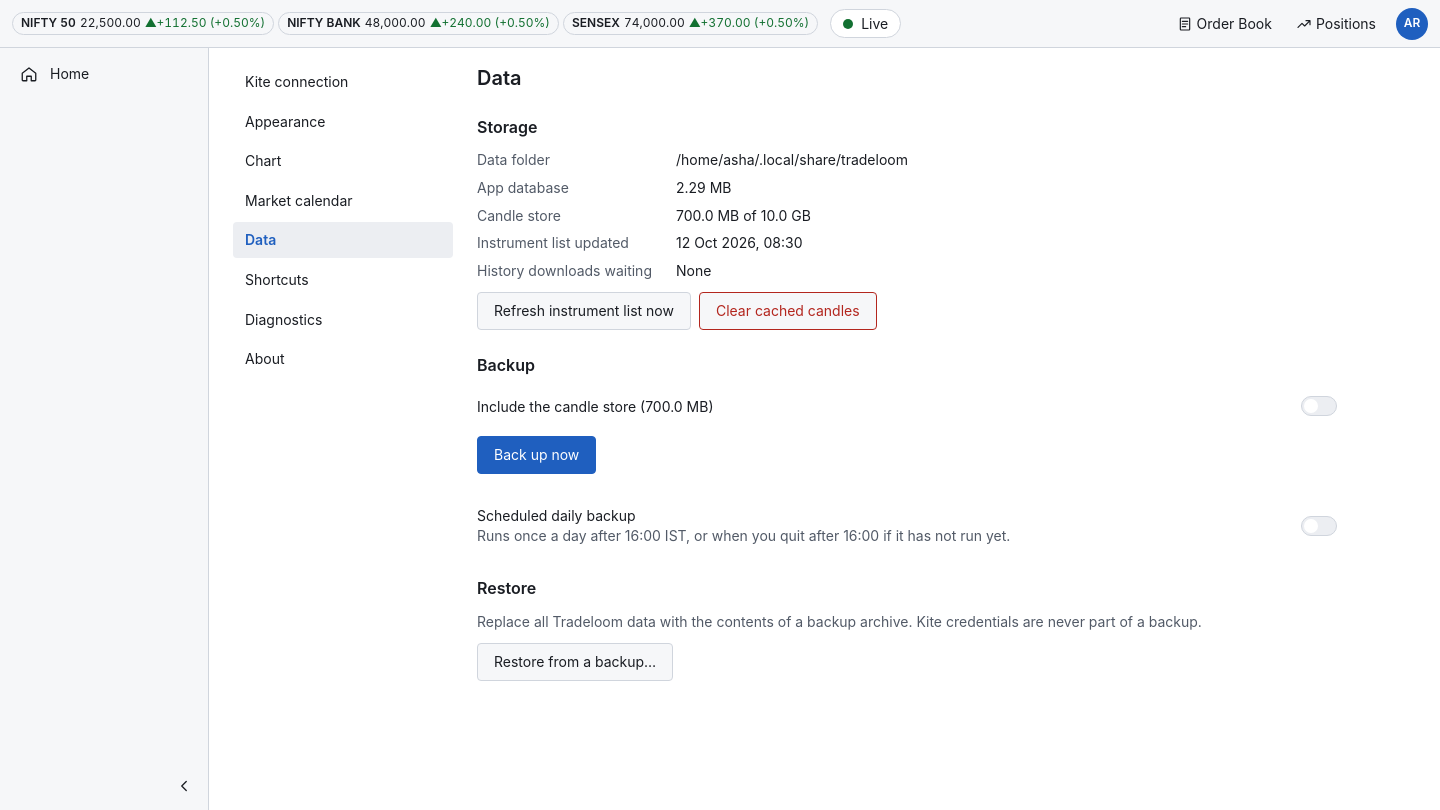
Test: Settings → Data (FR-ACCT-012, FR-DATA-005 UI) › a Back up now refusal (invalid_folder) shows Go's reason and leaves no job pending
What coordinates should you click on to do the following:
click the button "Back up now"
I would click on:
 (537, 455)
Its box is [477,436,596,474].
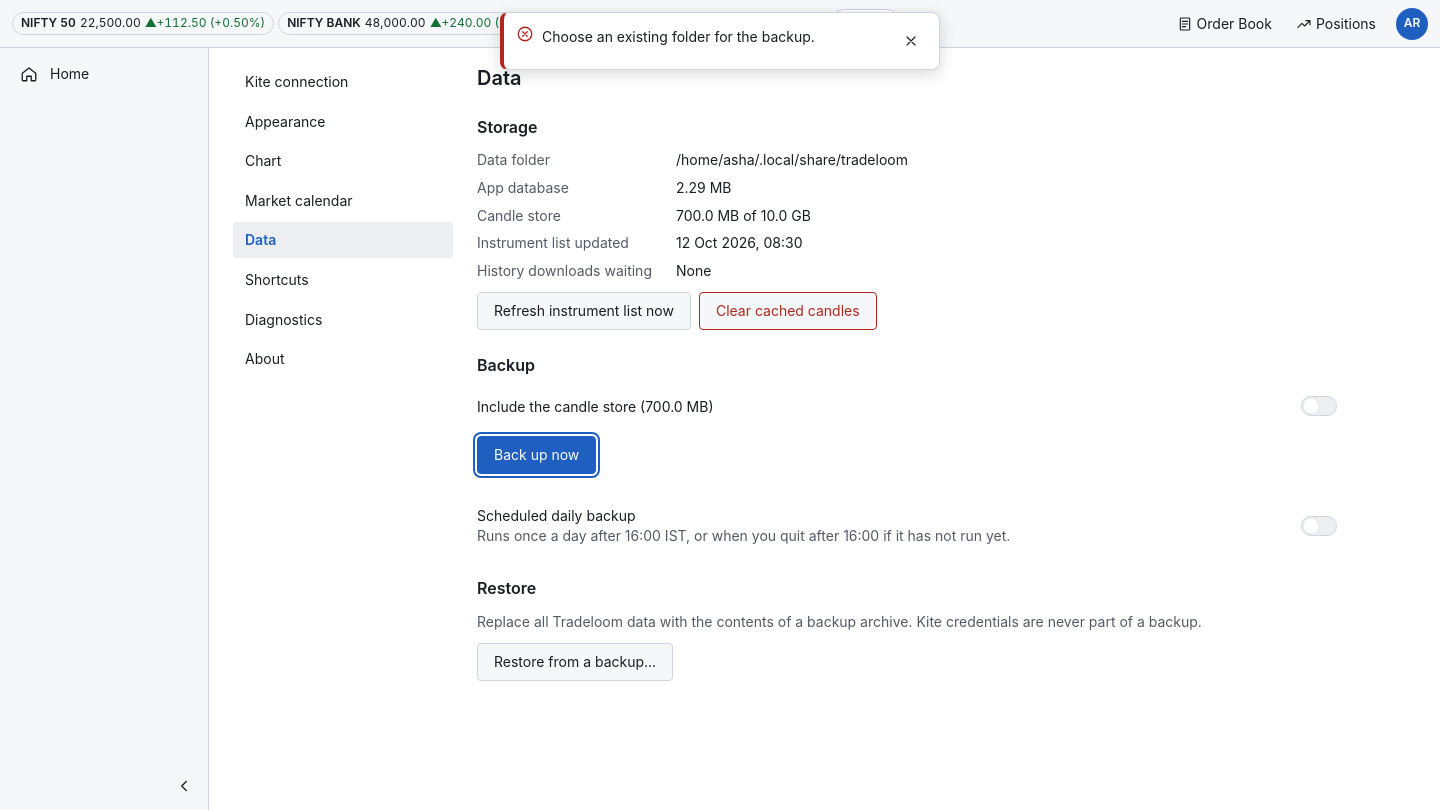
Now the text "Choose an existing folder for the backup." is shown, box [542,28,815,45]
